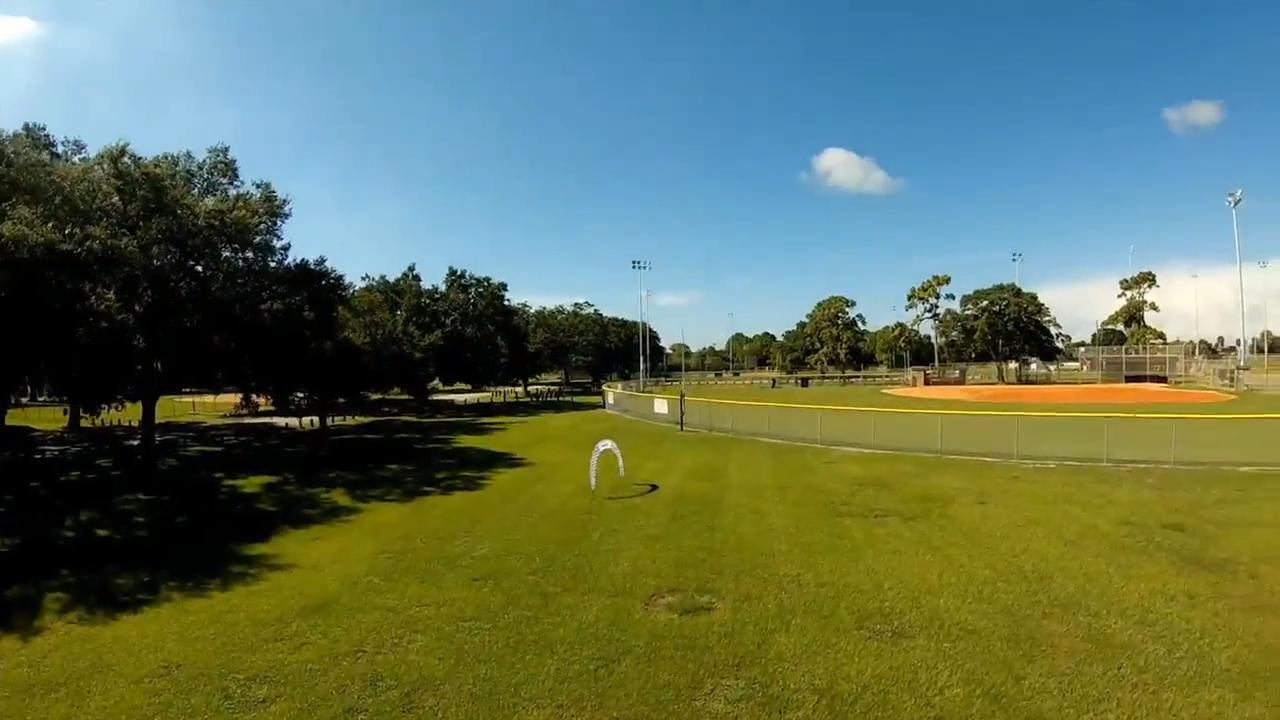gate: (588, 439, 624, 491)
